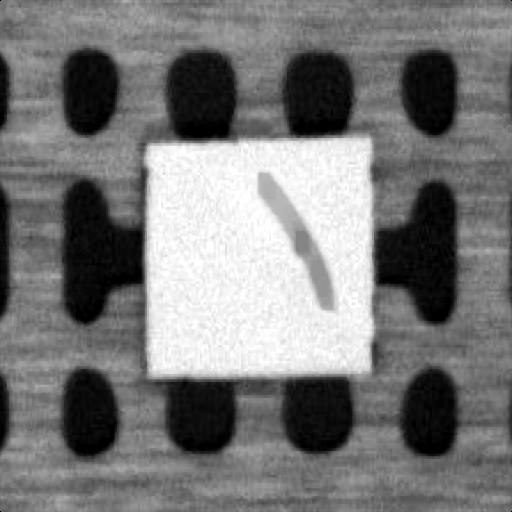DIE_INK: (366, 101, 512, 215)
